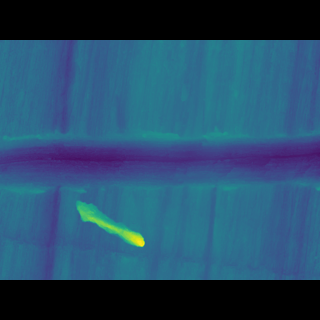Loch: (0, 132, 320, 190), (71, 189, 148, 226)
